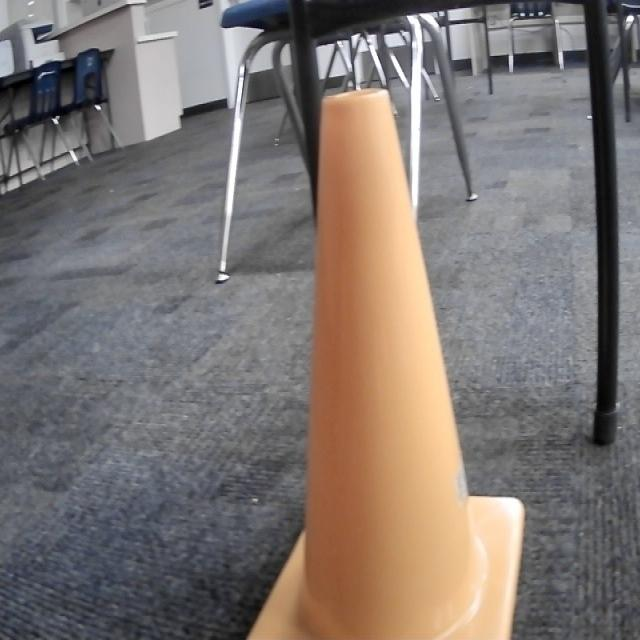cone: (248, 90, 528, 640)
